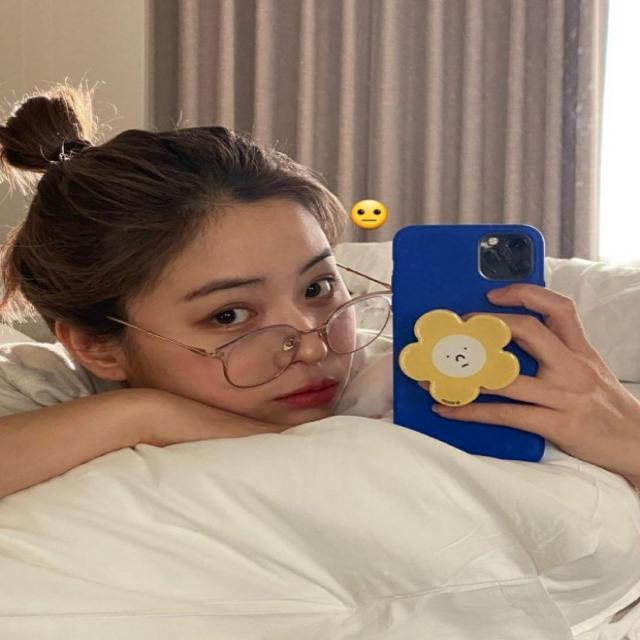phone: (389, 220, 551, 467)
